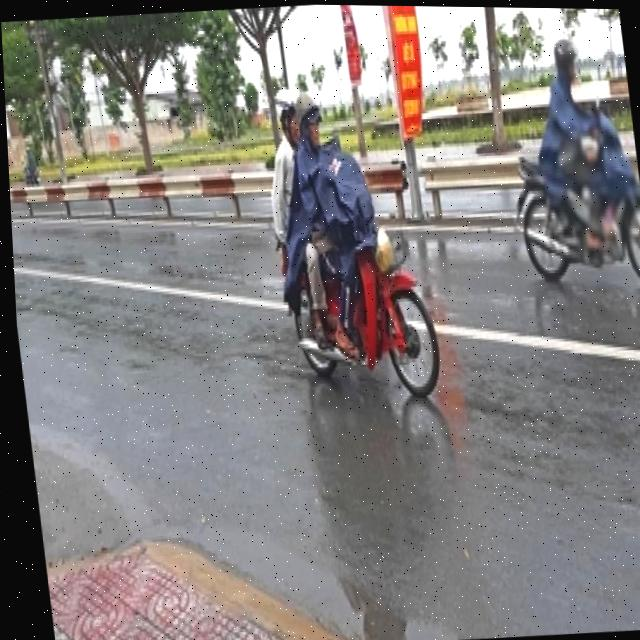motorcycle: (267, 195, 454, 426), (507, 131, 640, 293)
